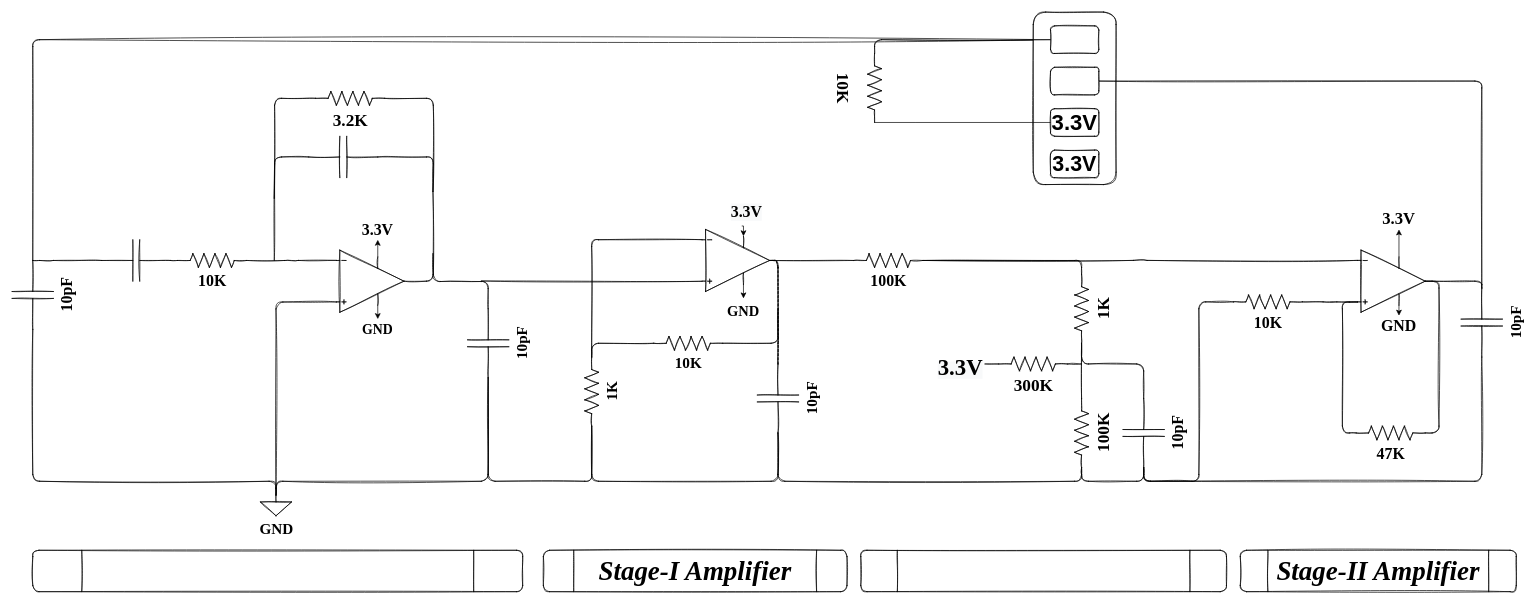
The diagram is 1537 pixels wide and 604 high, and some of its shapes have lost their labels. The shapes that lost their labels are listed below. From the top down, each one's centre as x and y in pixels, then its label:
At point 1074,39: "Vin".
At point 1074,81: "Vout".
At point 343,157: "0.1UF".
At point 136,260: "16UF".
At point 277,571: "Second Order Bandpass Filter".
At point 1043,571: "Voltage Shifter Circuit".
